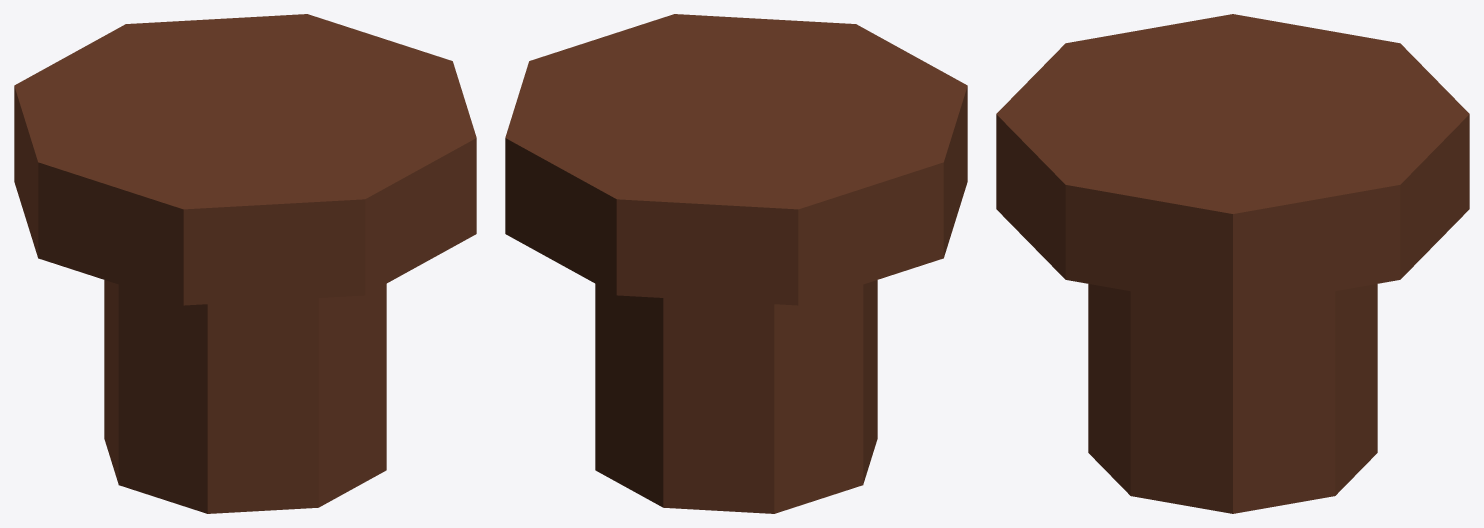
File: morel.fbx
The picture shows the model from 3 angles, left to right: view 1: azimuth 30°, elevation 25°; view 2: azimuth 150°, elevation 25°; view 3: azimuth 270°, elevation 25°; orthographic projection.
Visible parts, largest first — view 1: Cylinder; view 2: Cylinder; view 3: Cylinder.
Part boxes in pixels (x1,y1,x2,y2): Cylinder: [14, 14, 476, 513]; Cylinder: [505, 14, 967, 513]; Cylinder: [996, 14, 1469, 513].
Size of the model in its own units: 0.4958 by 0.3914 by 0.4958.
